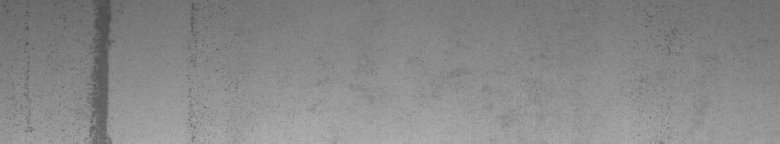hd: (16, 4, 116, 136)
